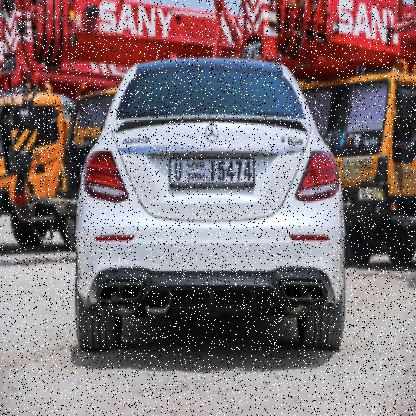licence: (170, 160, 254, 184)
